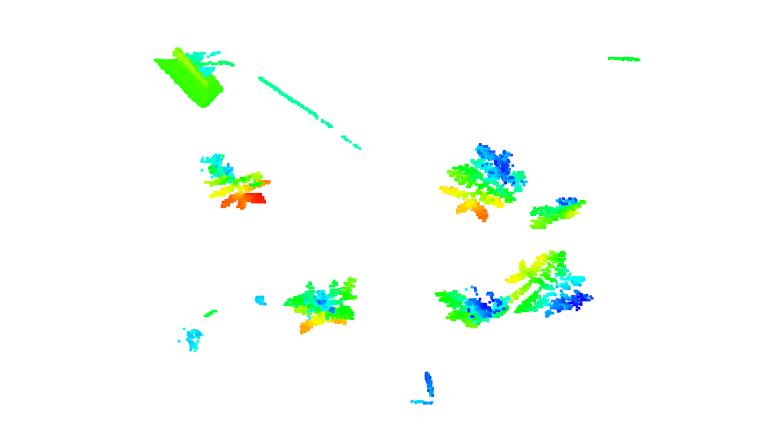chickpea: (440, 142, 531, 223), (504, 251, 595, 316), (283, 275, 359, 336), (201, 149, 270, 211), (434, 286, 508, 328), (530, 196, 588, 230)
